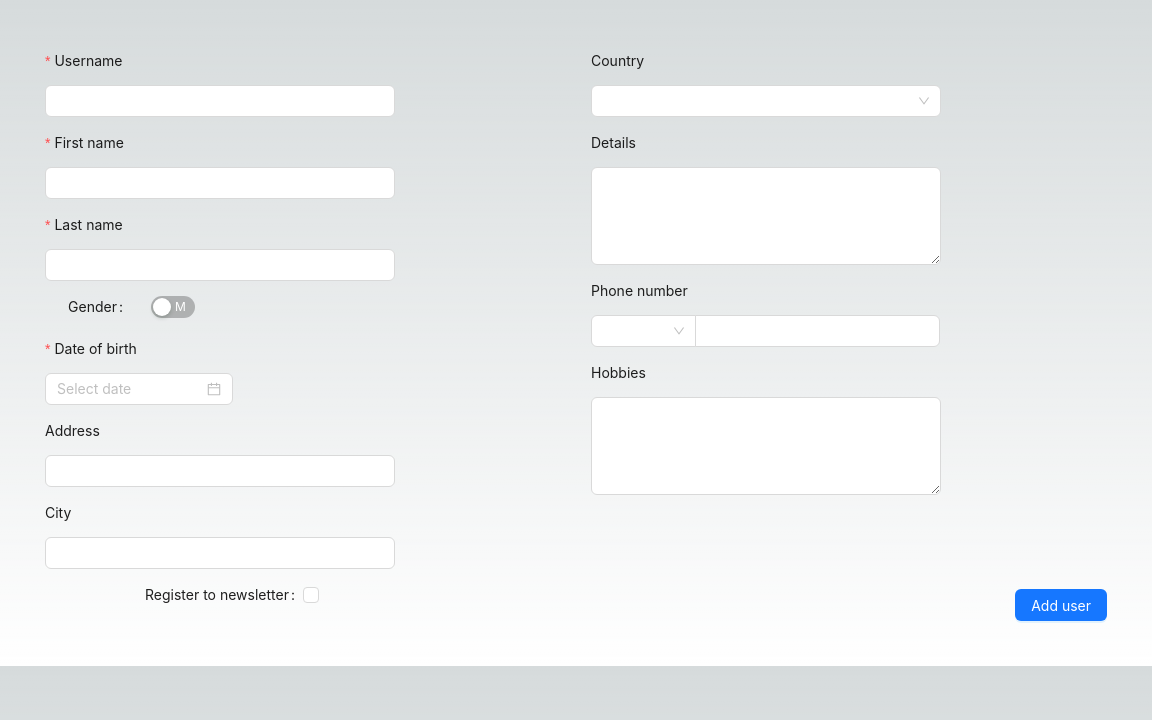
Test case: UserForm component › should validate username field
Click the button "Add user".
click(1061, 605)  # box [1015,589,1107,621]
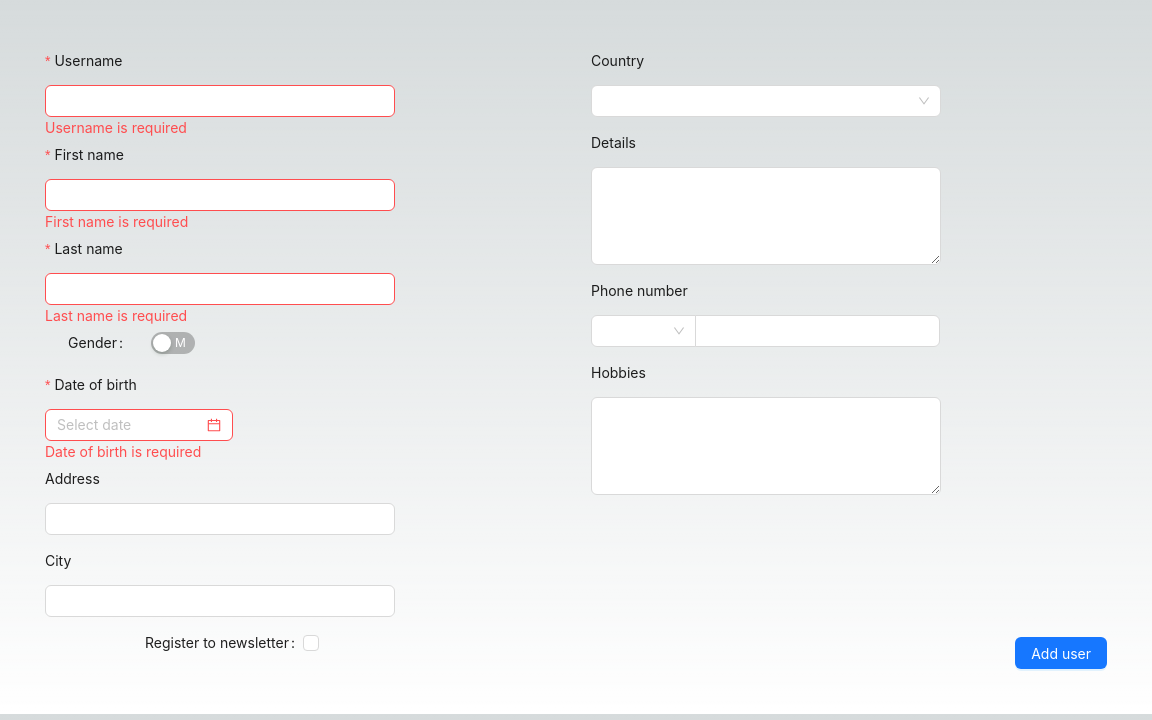
Expected: the text "Username is required" is shown, [45,119,187,136]
Type "tst" into the field with test id "username-input".
click(220, 101); type("tst")  # box [45,85,395,117]
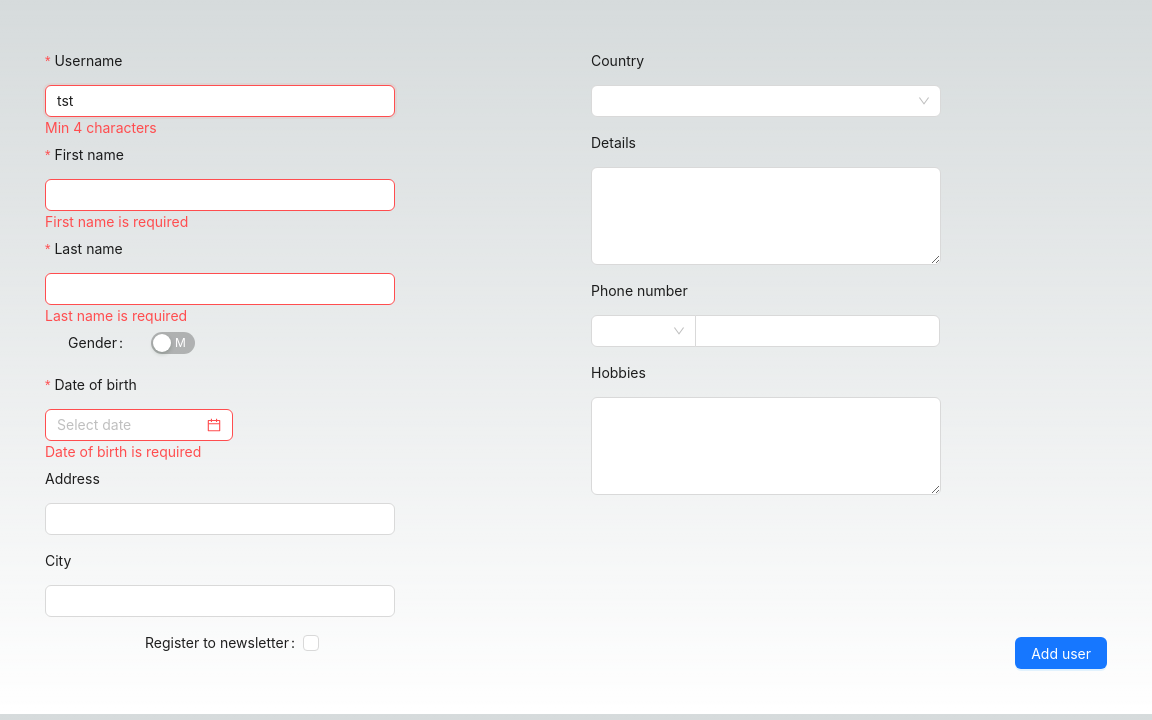
Result: the text "Min 4 characters" is shown at [45,119,157,136]
Type "$^3" into the field with test id "username-input".
click(220, 101); type("$^3")  # box [45,85,395,117]
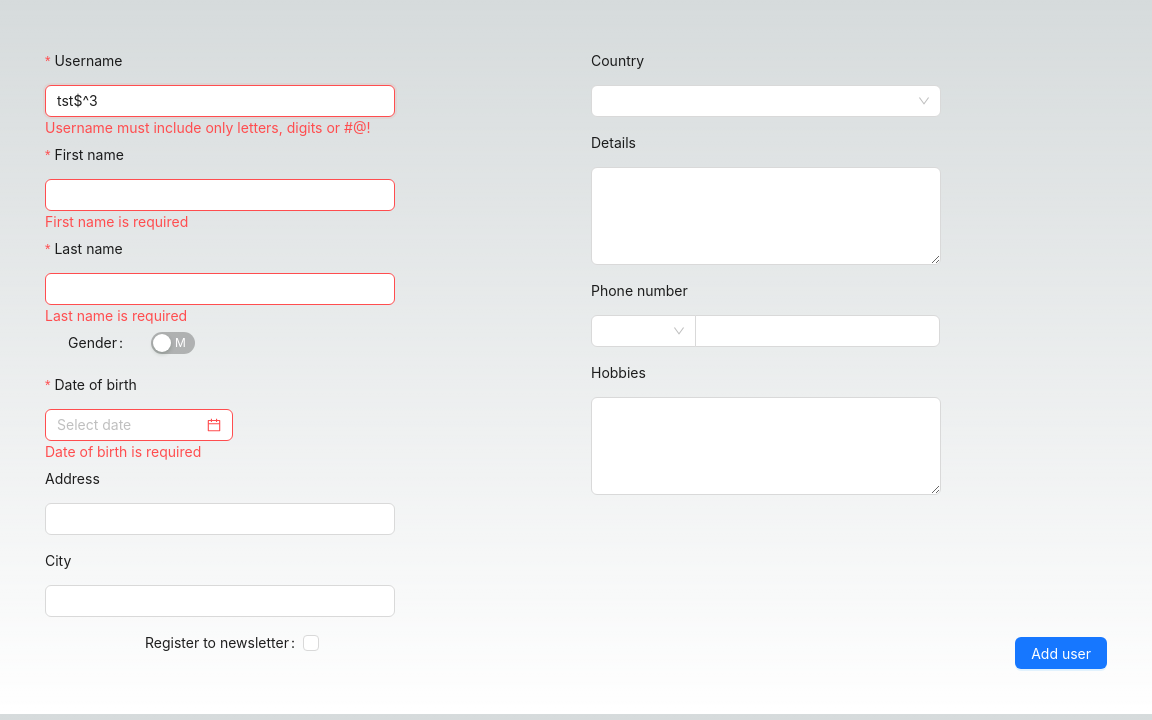
Result: the field with test id "username-input" holds "tst$^3" at [45,85,395,117]
Result: the text "Username must include only letters, digits or #@!" is shown at [45,119,370,136]
